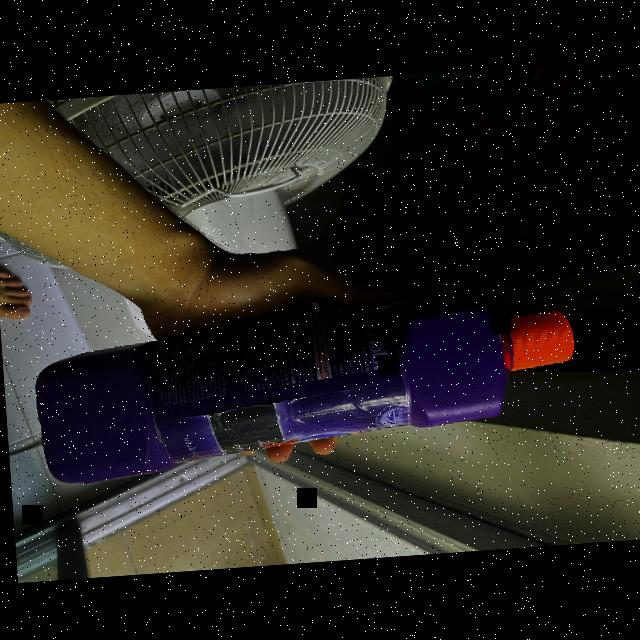chemical_plastic_bottle: (17, 280, 592, 492)
